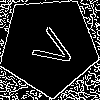V: (24, 21, 79, 74)
